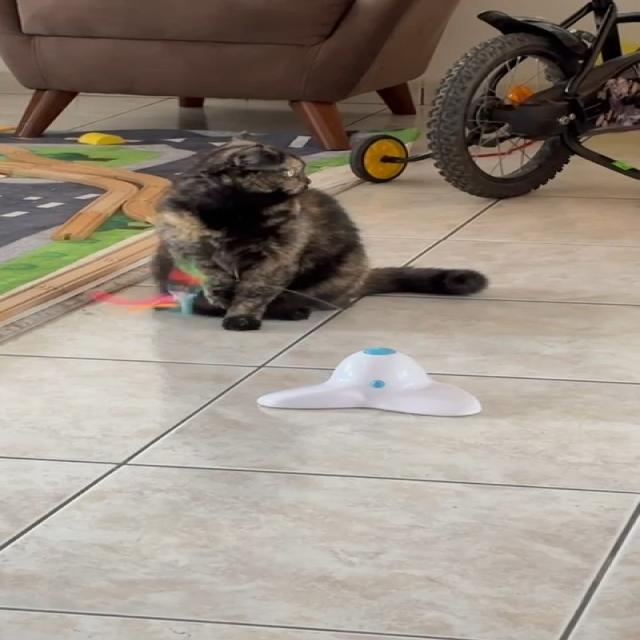authorized: (148, 137, 488, 331)
